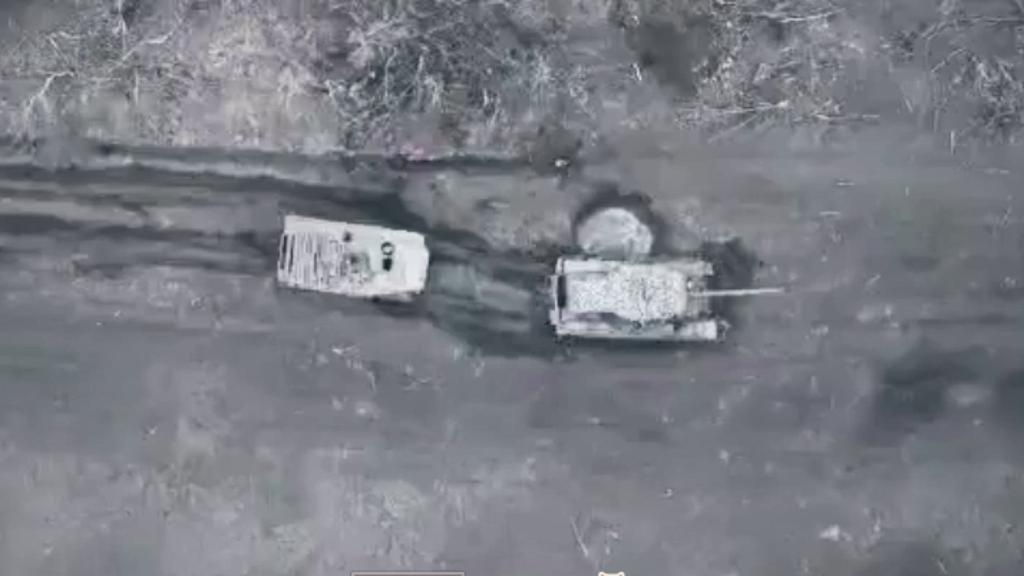APC-IFV: (271, 213, 430, 304)
TANK: (549, 254, 783, 344)
